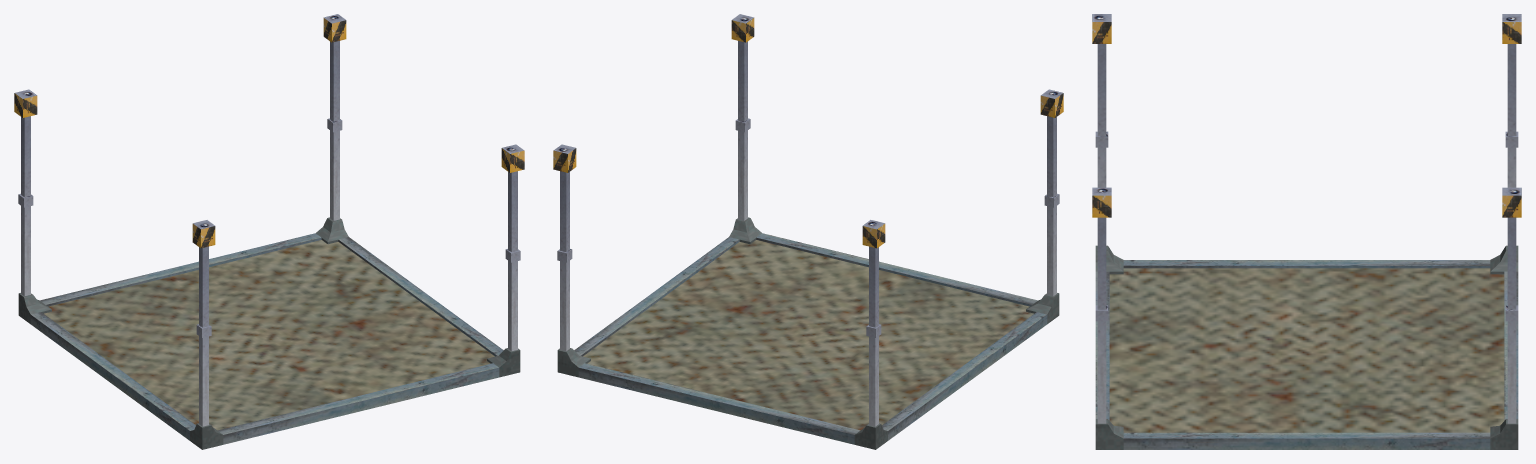
Rendered from SM_BLD_METALCATWALK_01.fbx.
3 renders of one model, left to right at view 1: azimuth 30°, elevation 25°; view 2: azimuth 150°, elevation 25°; view 3: azimuth 270°, elevation 25°, orthographic. The views are drawn at different scales.
Parts seen in each view (by area): view 1: SM_BLD_METALCATWALK_01; view 2: SM_BLD_METALCATWALK_01; view 3: SM_BLD_METALCATWALK_01.
Part boxes in pixels (bbox=[...]): SM_BLD_METALCATWALK_01: bbox=[14, 14, 524, 449]; SM_BLD_METALCATWALK_01: bbox=[553, 14, 1063, 449]; SM_BLD_METALCATWALK_01: bbox=[1092, 14, 1521, 449].
Bounding box in the file's own units: 1.53 × 1 × 1.52.
